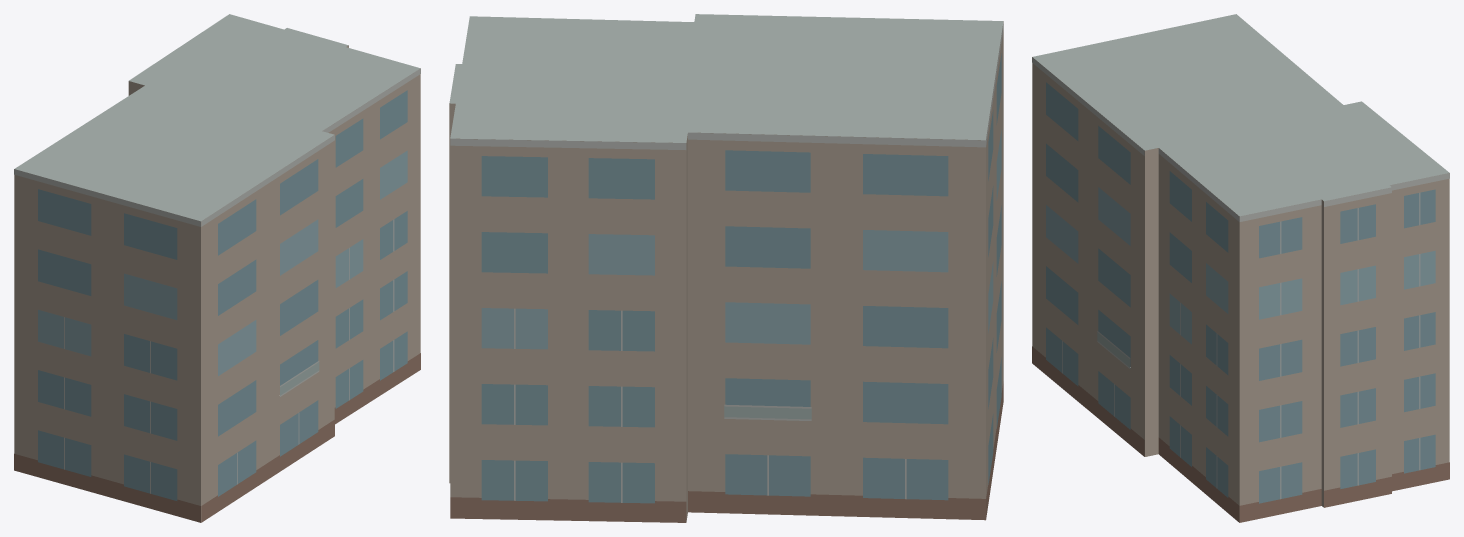
File: survey-upis-32673478.glb
3 views of the same model, side by side, from view 1: azimuth 30°, elevation 25°; view 2: azimuth 150°, elevation 25°; view 3: azimuth 270°, elevation 25° (orthographic). The views are drawn at different scales.
Visible parts, largest first — view 1: survey-upis-32673478.tmp; view 2: survey-upis-32673478.tmp; view 3: survey-upis-32673478.tmp.
Boxes of the visible parts, bbox=[...] form: survey-upis-32673478.tmp: bbox=[14, 14, 420, 522]; survey-upis-32673478.tmp: bbox=[449, 14, 1003, 522]; survey-upis-32673478.tmp: bbox=[1032, 14, 1449, 522].
Size of the model in its own units: 18.43 by 13 by 16.06.
